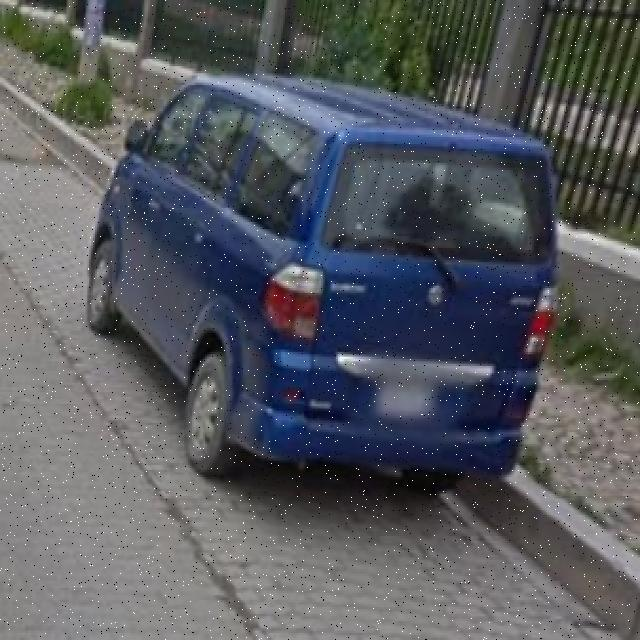cars: (83, 49, 562, 514)
